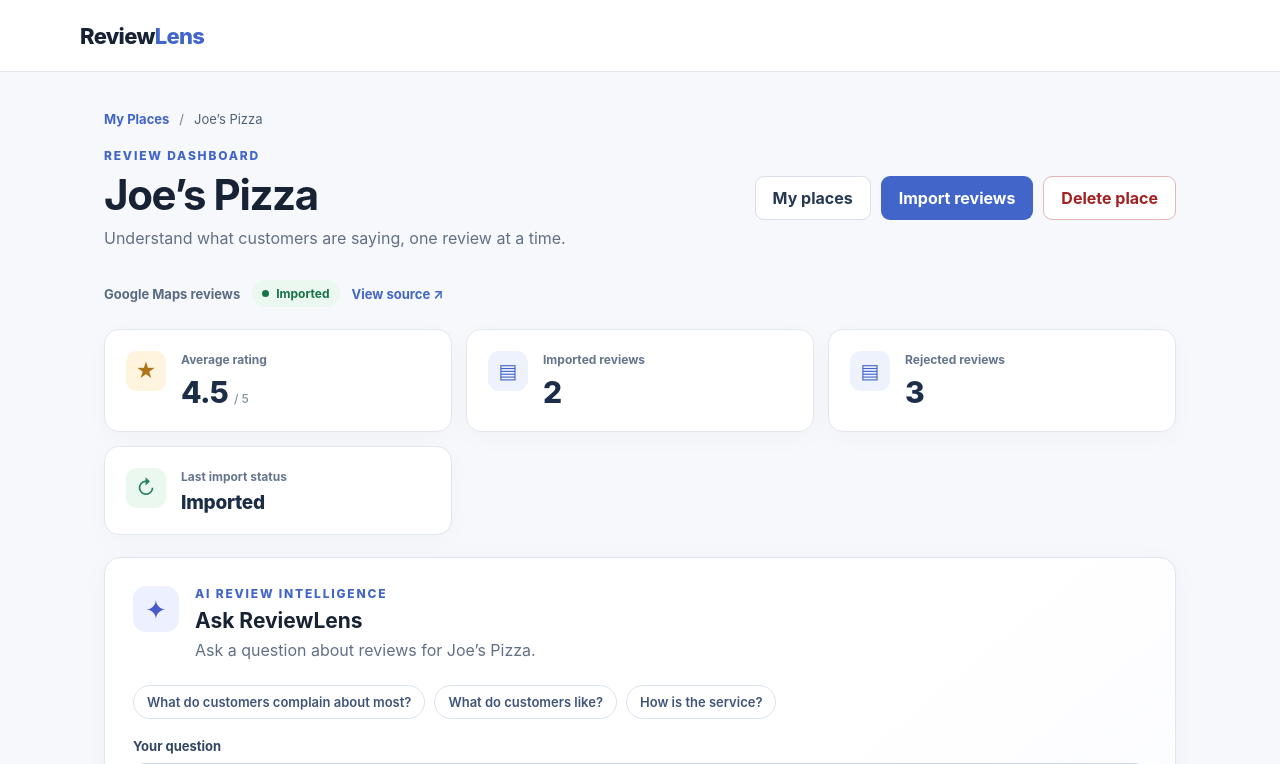
App › uses persisted reviews for Q&A when the last import succeeded
Expected: the text "4.5" is shown, [181,374,228,410]
Expected: the text "2" is shown, [543,374,561,410]
Click the button "How is the service?".
click(701, 702)  # box [626,685,776,719]
(page scrolled)
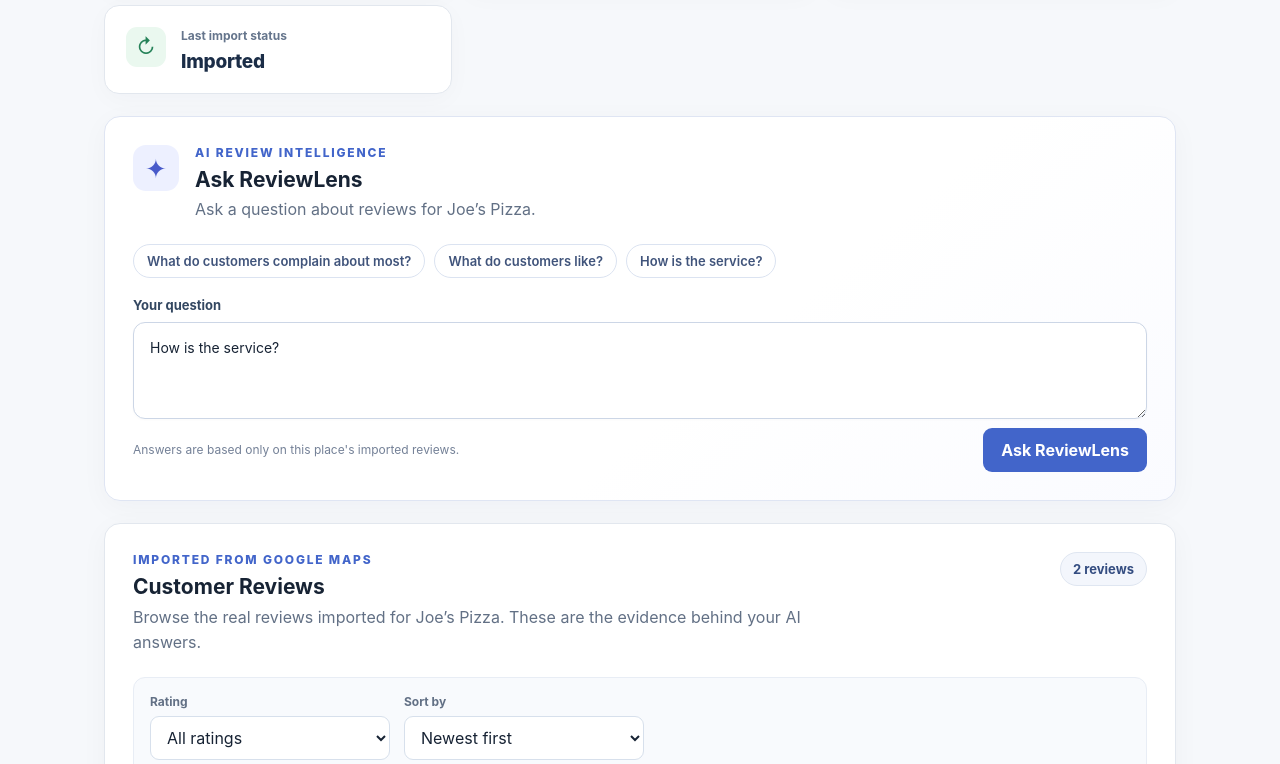
Click the button "Ask ReviewLens".
click(1065, 450)  # box [983,428,1147,472]
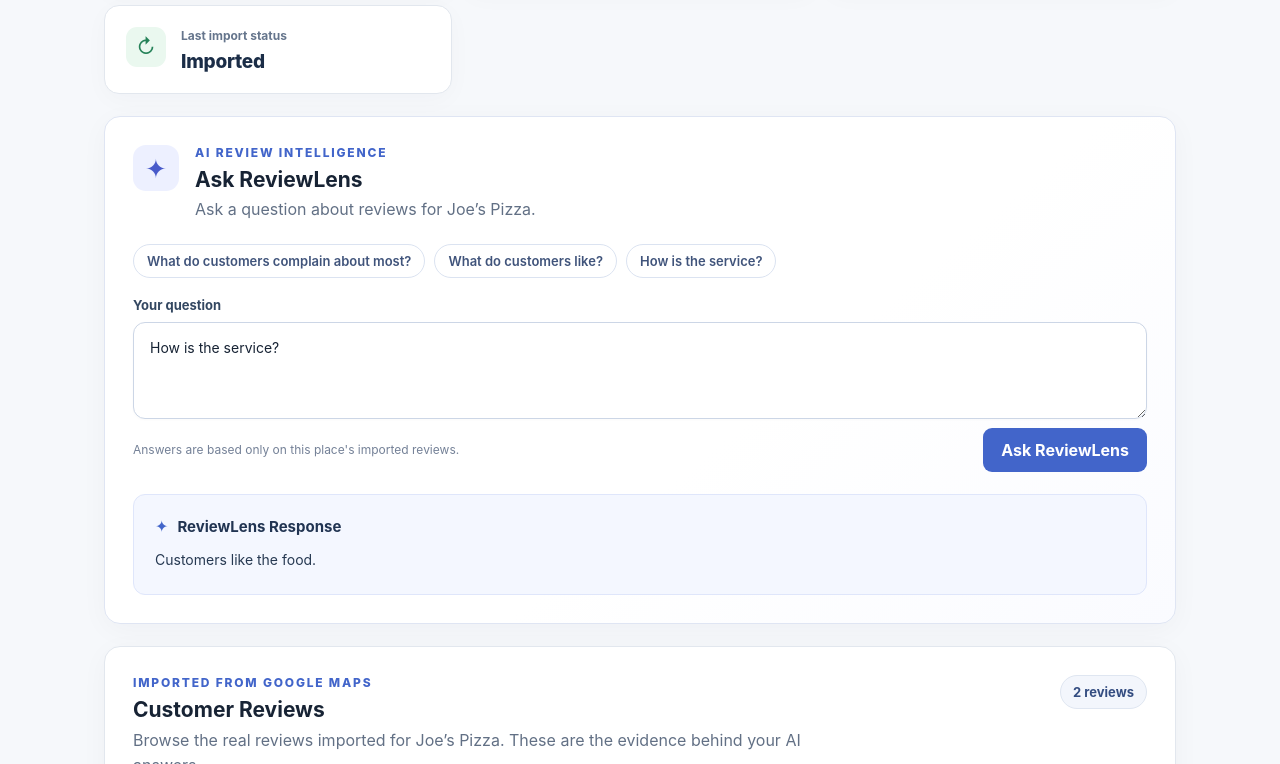
Expected: the text "Customers like the food." is shown, [155,551,316,568]
